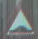Speed Breaker ahead: (3, 5, 36, 37)
